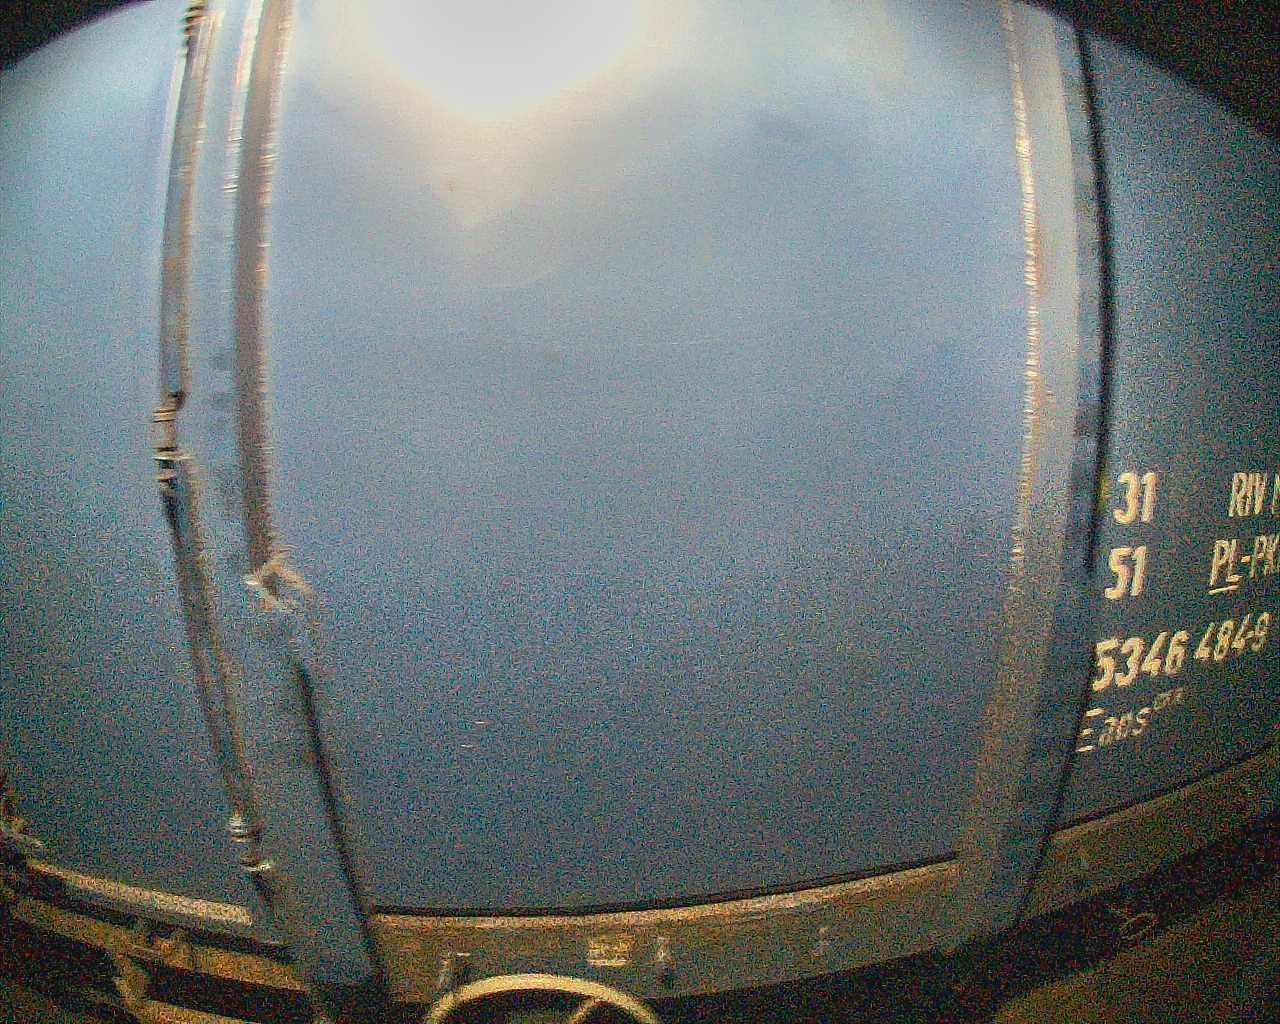UIC: (1071, 466, 1278, 761)
